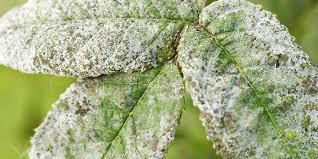powdery_mildew: (13, 3, 310, 159)
